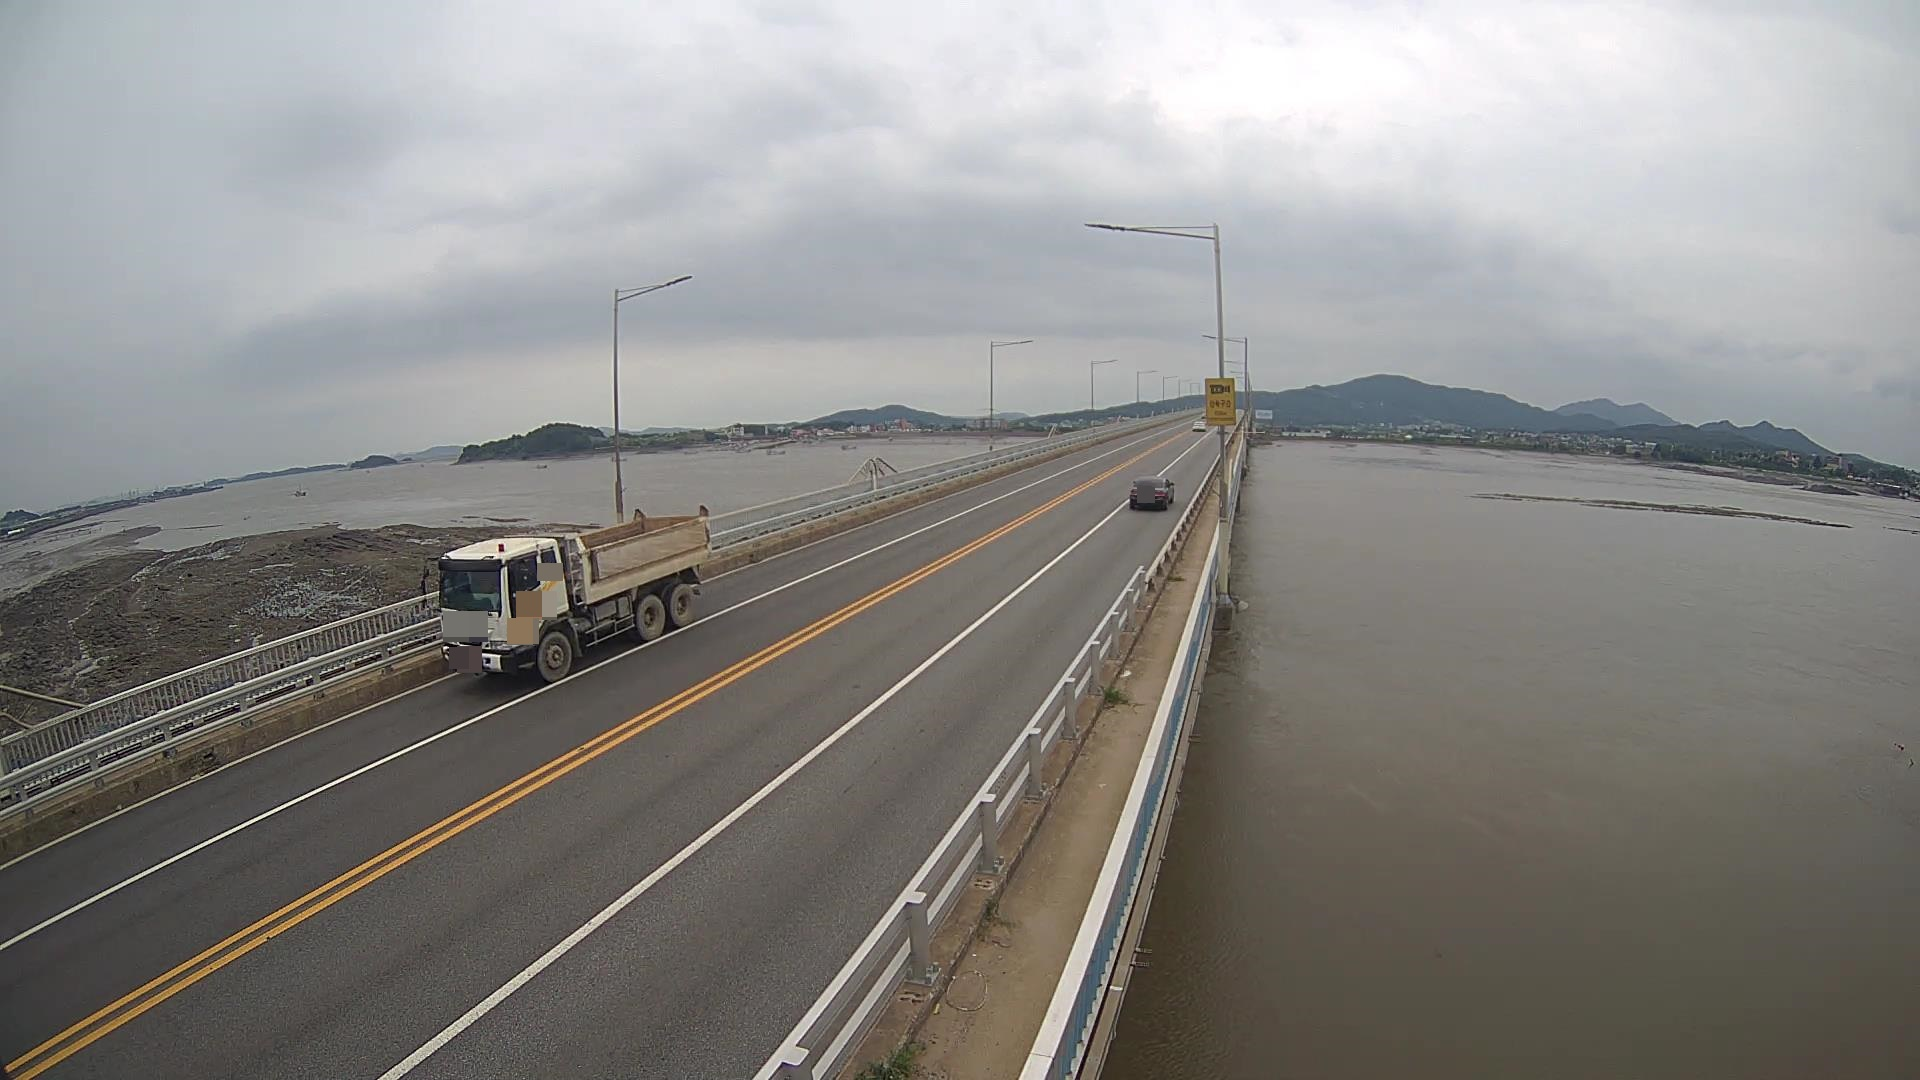정상차량: (421, 504, 712, 683)
